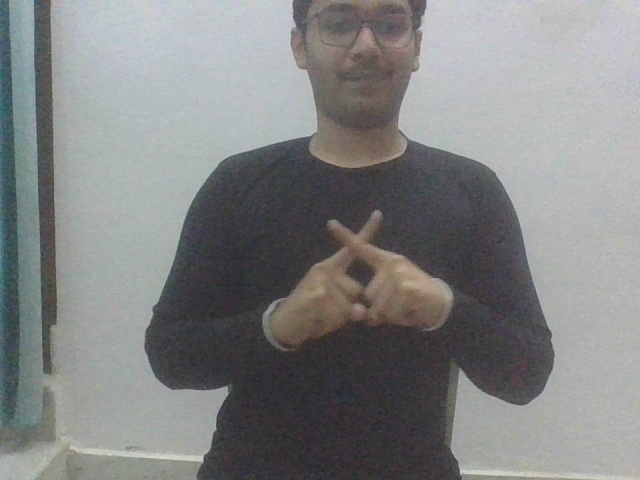X: (288, 206, 426, 338)
